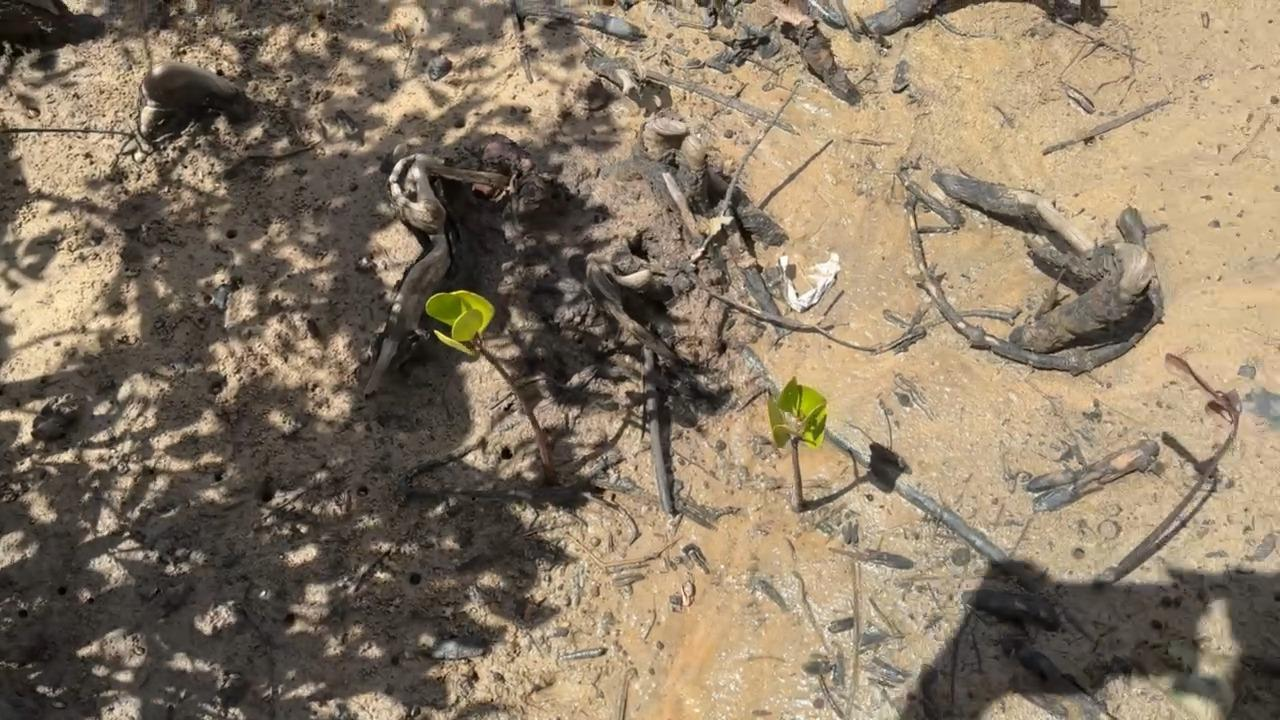Tree: (426, 291, 557, 484), (768, 375, 827, 513)
